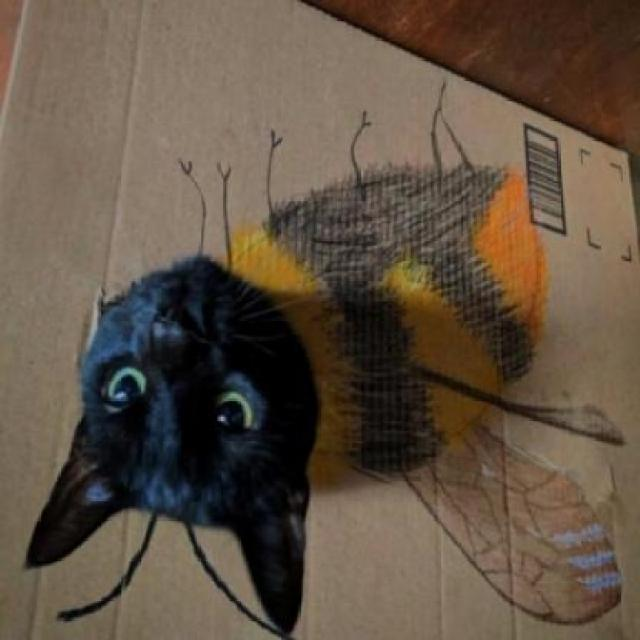cat: (16, 255, 347, 613)
